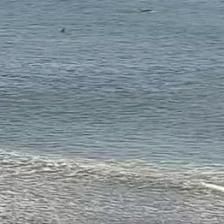surfer: (140, 8, 152, 12), (61, 27, 66, 33), (38, 0, 42, 1)
